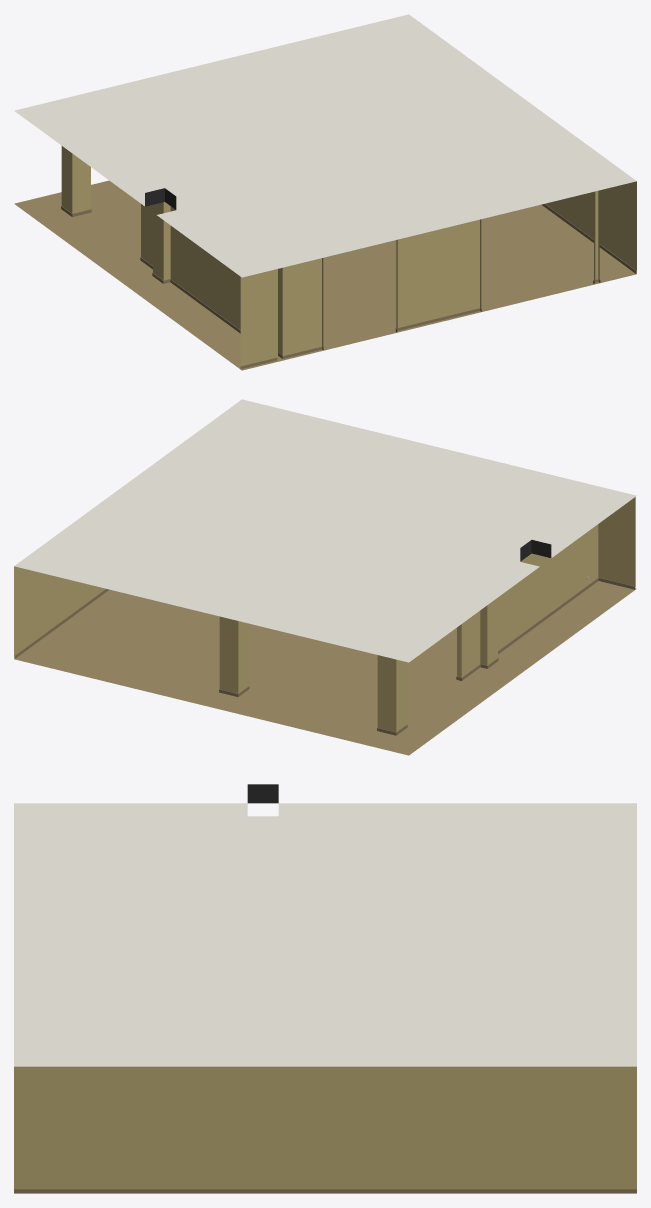
Rendered from chunk_5_1.glb.
3 views of the same model, one above another, from view 1: azimuth 30°, elevation 25°; view 2: azimuth 150°, elevation 25°; view 3: azimuth 270°, elevation 25° (orthographic). The views are drawn at different scales.
Visible parts, largest first — view 1: chunk_5_1; view 2: chunk_5_1; view 3: chunk_5_1.
Boxes of the visible parts, bbox=[...] form: chunk_5_1: bbox=[14, 14, 636, 370]; chunk_5_1: bbox=[14, 399, 636, 755]; chunk_5_1: bbox=[14, 784, 636, 1193].
Size of the model in its own units: 12.01 by 3.1 by 12.
